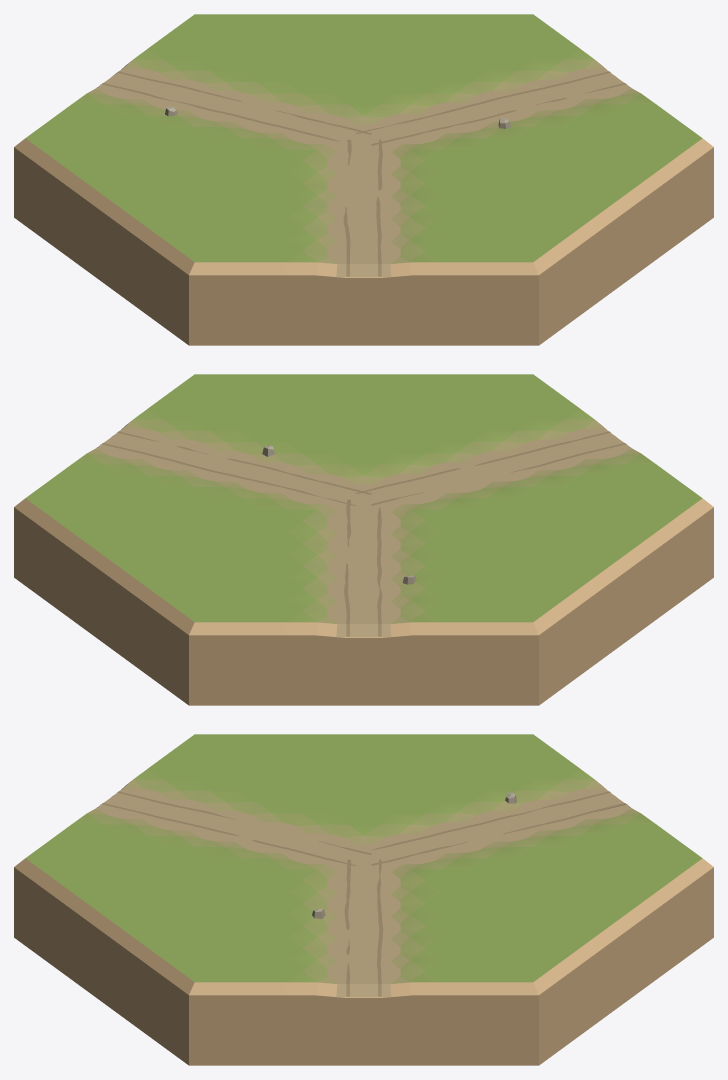
The model's file is road_fork.fbx.
3 views of the same model, one above another, from view 1: azimuth 30°, elevation 25°; view 2: azimuth 150°, elevation 25°; view 3: azimuth 270°, elevation 25° (orthographic).
Visible parts, largest first — view 1: road_fork; view 2: road_fork; view 3: road_fork.
Part boxes in pixels (x1,y1,x2,y2): road_fork: (14,14,713,345); road_fork: (14,374,713,705); road_fork: (14,734,713,1065).
Bounding box in the file's own units: 1.73 × 0.27 × 2.
